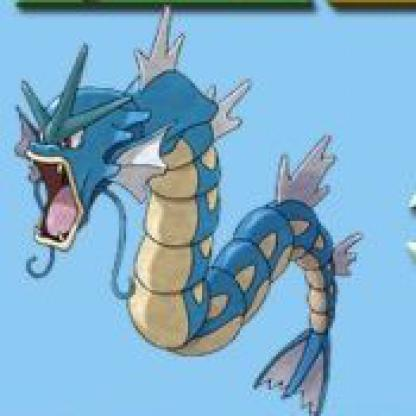Gyarados: (16, 31, 366, 416)
